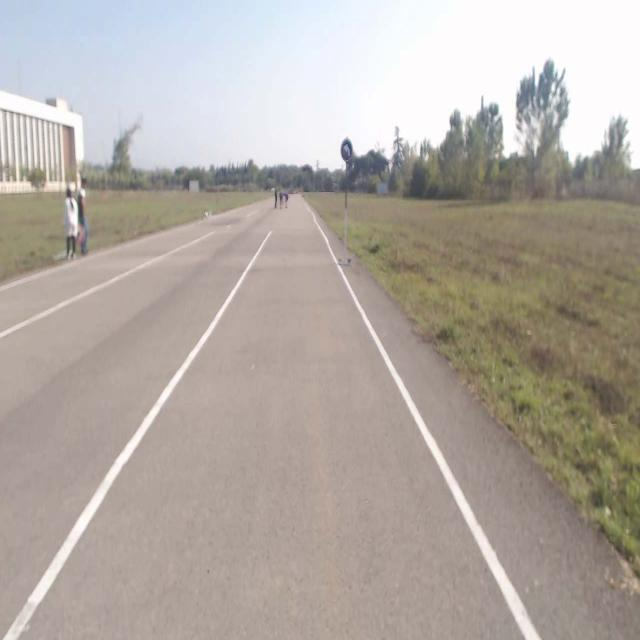sol: (340, 138, 352, 160)
